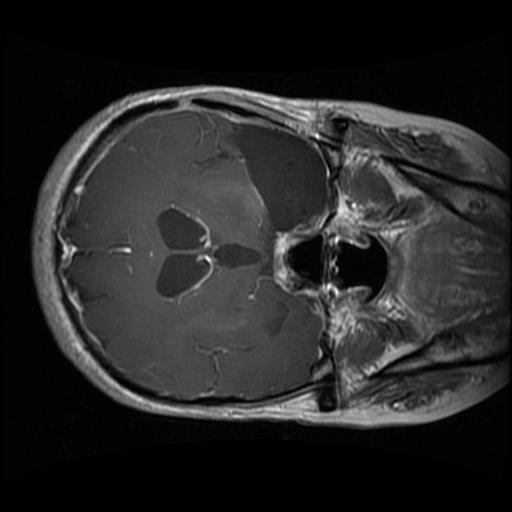glioma: (224, 125, 325, 232)
